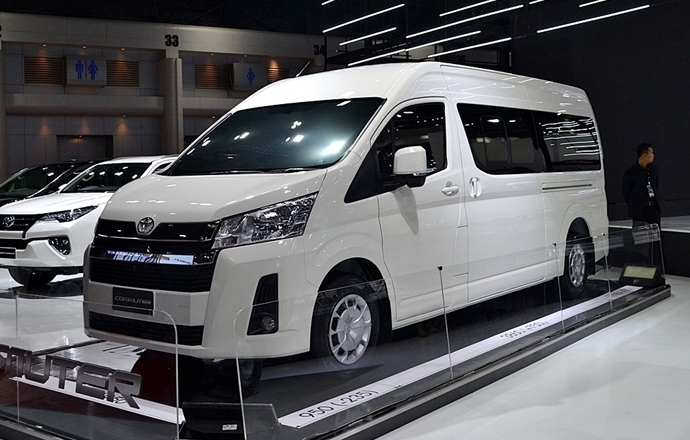van: (80, 57, 611, 378)
